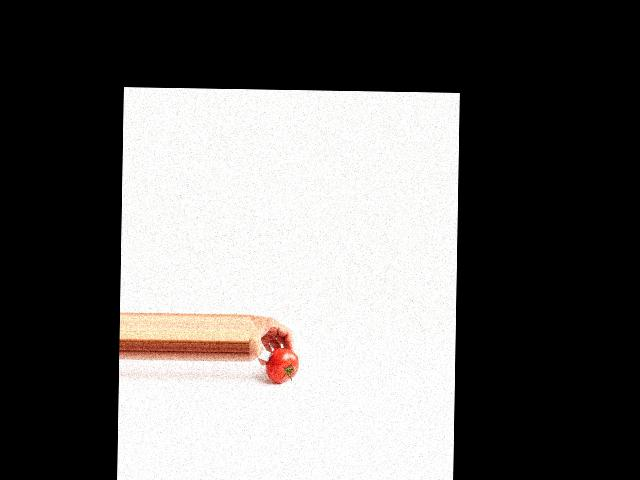tomato: (265, 347, 299, 383)
